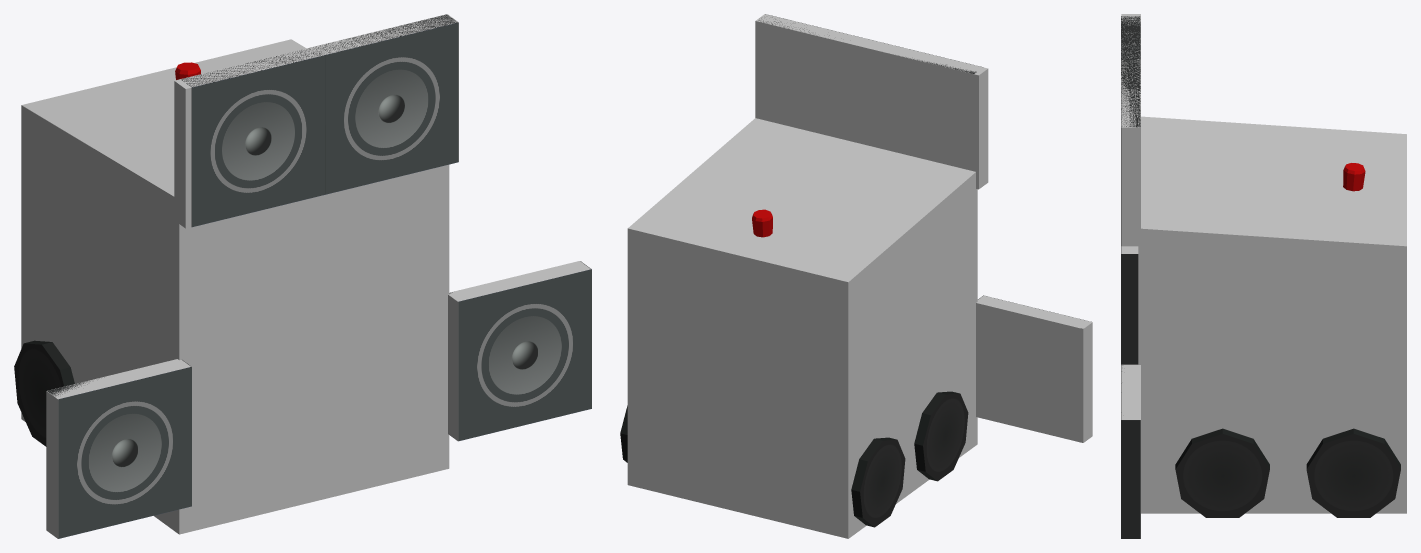
The model's file is EpicBassCannon.obj.
The picture shows the model from 3 angles, left to right: view 1: azimuth 30°, elevation 25°; view 2: azimuth 150°, elevation 25°; view 3: azimuth 270°, elevation 25°; orthographic projection. The views are drawn at different scales.
Parts seen in each view (by area): view 1: EpicBassCannon_phys_Cube.001, EpicBassCannon_idle_Cube; view 2: EpicBassCannon_phys_Cube.001, EpicBassCannon_idle_Cube; view 3: EpicBassCannon_phys_Cube.001, EpicBassCannon_idle_Cube.
Boxes of the visible parts, bbox=[...] form: EpicBassCannon_phys_Cube.001: bbox=[21, 14, 590, 538]; EpicBassCannon_idle_Cube: bbox=[14, 14, 591, 538]; EpicBassCannon_phys_Cube.001: bbox=[627, 14, 1092, 538]; EpicBassCannon_idle_Cube: bbox=[620, 14, 1091, 527]; EpicBassCannon_phys_Cube.001: bbox=[1121, 14, 1406, 538]; EpicBassCannon_idle_Cube: bbox=[1121, 16, 1400, 538].
Size of the model in its own units: 16.01 by 13 by 8.72.
